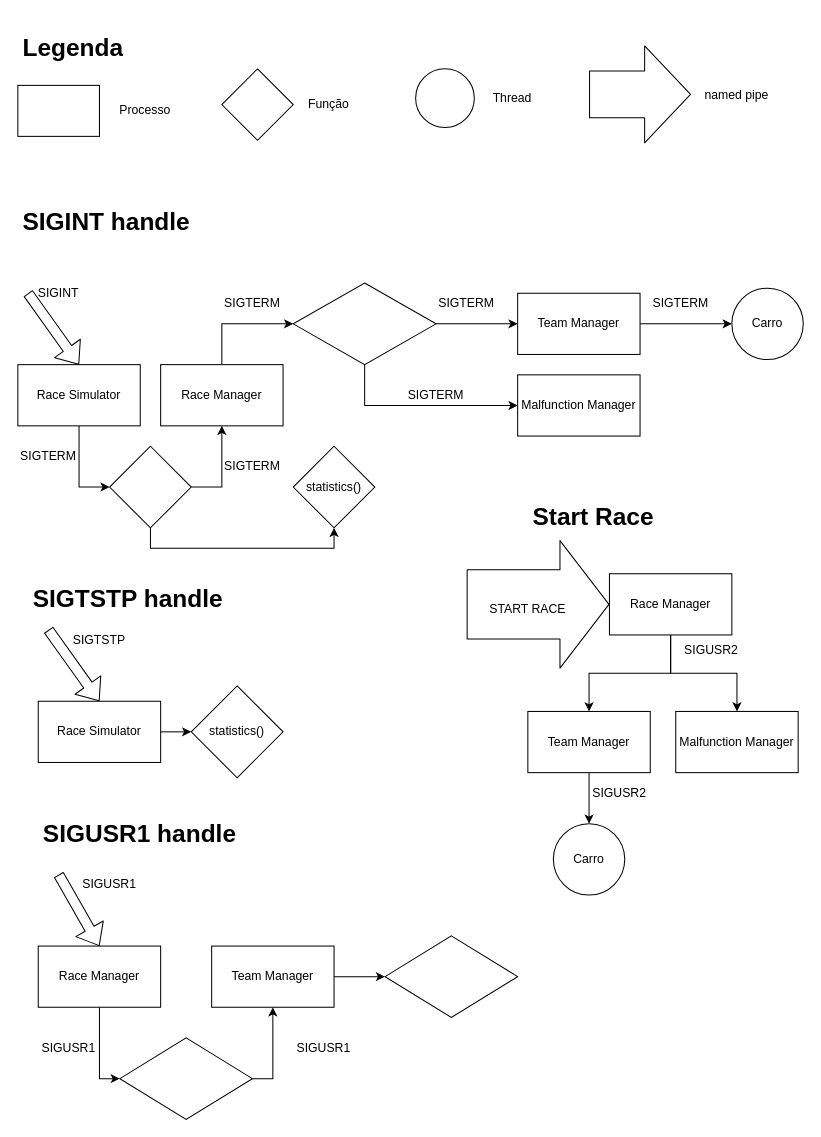
This 821x1137 diagram has some shape labels left out. The centre of each missing label's shape, as x and y in pixels:
"end_race()" goes at point (150, 486).
"interrupt_race()" goes at point (185, 1078).
"swap_race_state()" goes at point (451, 976).
"terminate_teams()" goes at point (364, 323).
